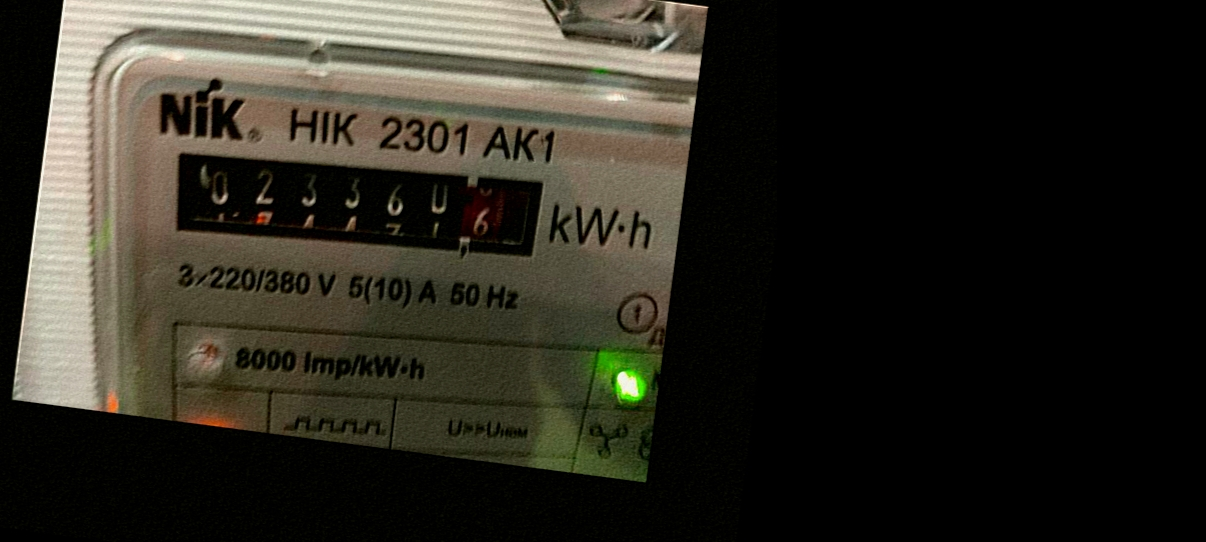0: (205, 165, 235, 210), (426, 178, 453, 218)
2: (250, 164, 281, 207)
3: (339, 172, 366, 213), (297, 169, 323, 211)
6: (380, 177, 411, 221), (470, 203, 496, 242)
screen: (147, 119, 560, 288)
